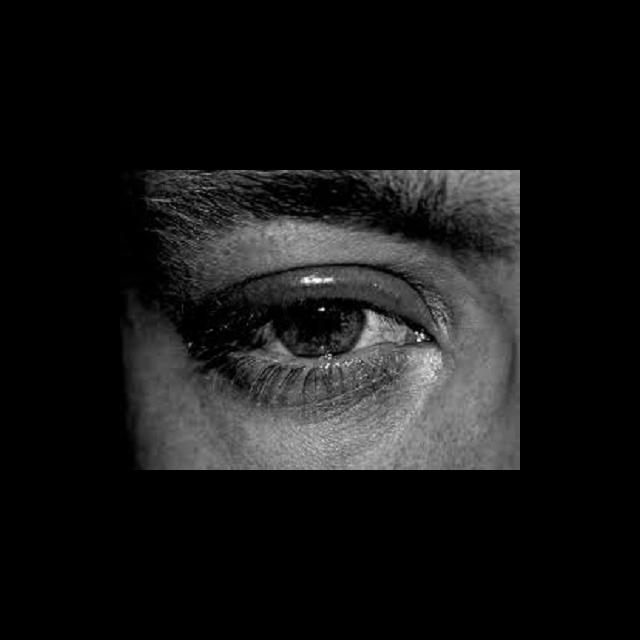eye: (234, 303, 413, 360)
iris: (276, 308, 368, 357)
